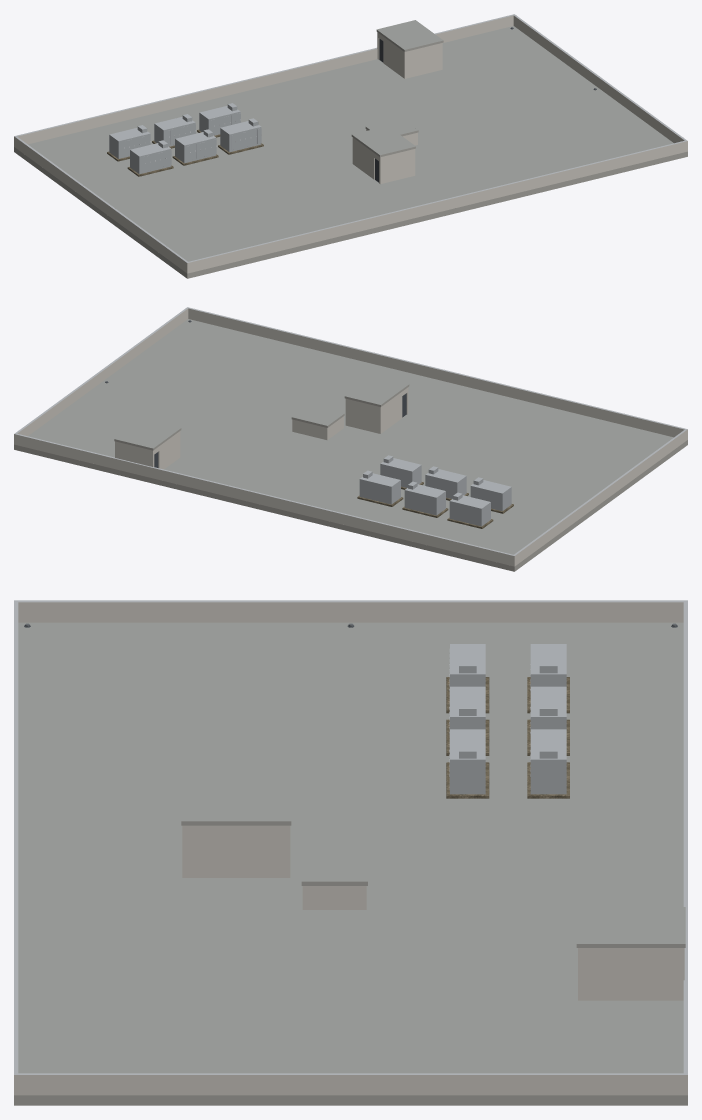
File: 33_azotea.glb
The picture shows the model from 3 angles, top to bottom: view 1: azimuth 30°, elevation 25°; view 2: azimuth 150°, elevation 25°; view 3: azimuth 270°, elevation 25°; orthographic projection. The views are drawn at different scales.
Parts seen in each view (by area): view 1: Losa de azotea y pretil, uma (×6), tapa de escalera de emergencia, tapa de escalera principal, remate del cubo del elevador (sin cuarto de máquinas); view 2: Losa de azotea y pretil, uma (×6), tapa de escalera principal, tapa de escalera de emergencia, remate del cubo del elevador (sin cuarto de máquinas); view 3: Losa de azotea y pretil, uma (×6), tapa de escalera de emergencia, tapa de escalera principal, remate del cubo del elevador (sin cuarto de máquinas).
Boxes of the visible parts, left/top/right/bottom form: Losa de azotea y pretil: left=14, top=14, right=687, bottom=278; uma (×6): left=107, top=103, right=263, bottom=176; tapa de escalera de emergencia: left=376, top=20, right=443, bottom=78; tapa de escalera principal: left=351, top=126, right=415, bottom=184; remate del cubo del elevador (sin cuarto de máquinas): left=365, top=118, right=418, bottom=145; Losa de azotea y pretil: left=14, top=307, right=687, bottom=571; uma (×6): left=357, top=455, right=513, bottom=528; tapa de escalera principal: left=344, top=375, right=409, bottom=433; tapa de escalera de emergencia: left=114, top=418, right=181, bottom=469; remate del cubo del elevador (sin cuarto de máquinas): left=291, top=404, right=344, bottom=440; Losa de azotea y pretil: left=14, top=600, right=687, bottom=1105; uma (×6): left=446, top=644, right=569, bottom=798; tapa de escalera de emergencia: left=576, top=907, right=685, bottom=1000; tapa de escalera principal: left=181, top=787, right=291, bottom=877; remate del cubo del elevador (sin cuarto de máquinas): left=301, top=847, right=367, bottom=909.
Bounding box in the file's own units: 50 × 3.3 × 30.
Materials: 9 (2 with a texture image).
